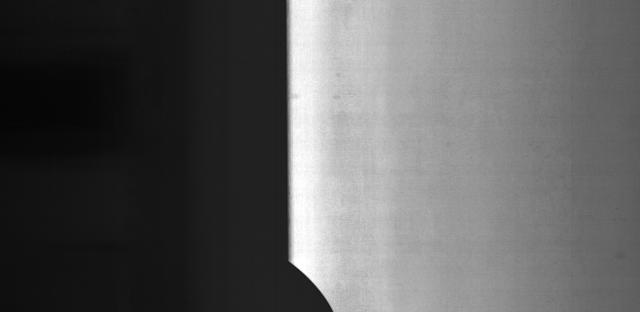crescent_gap: (278, 250, 344, 312)
